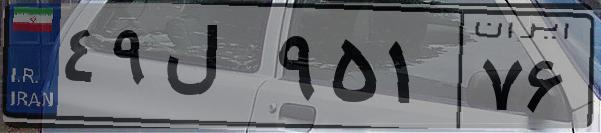1: (385, 28, 445, 110)
4: (57, 26, 110, 100)
5: (330, 28, 385, 110)
6: (525, 38, 570, 115)
7: (475, 38, 525, 113)
9: (270, 28, 330, 110), (110, 28, 158, 98)
ل: (158, 20, 270, 120)
